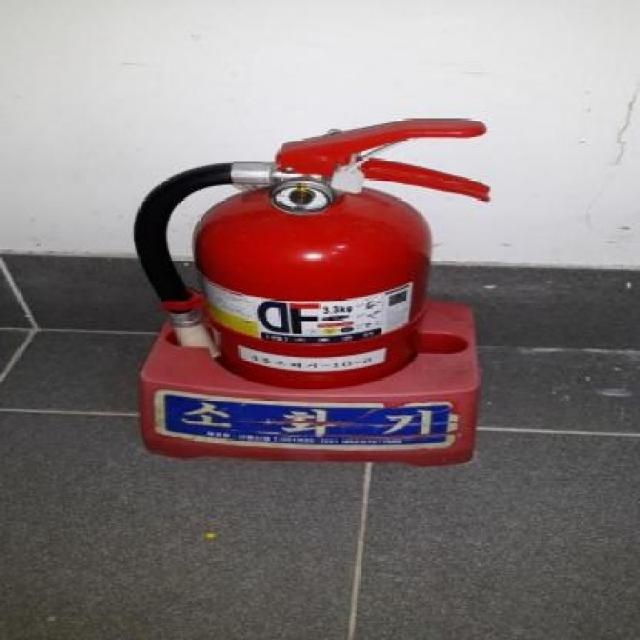fire extinguisher: (132, 118, 492, 390)
